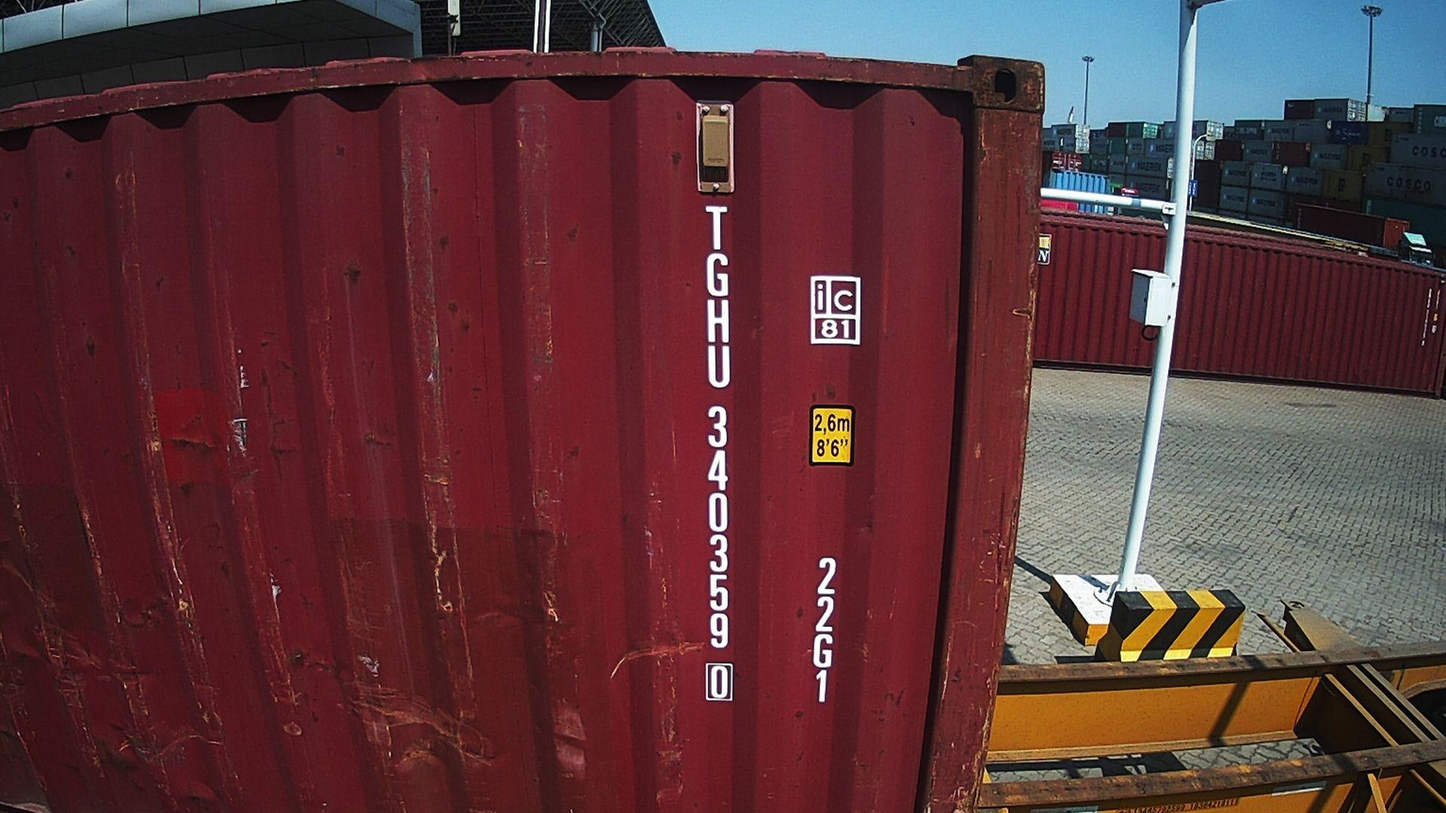container-numbers: (693, 197, 739, 707), (807, 553, 840, 709)
